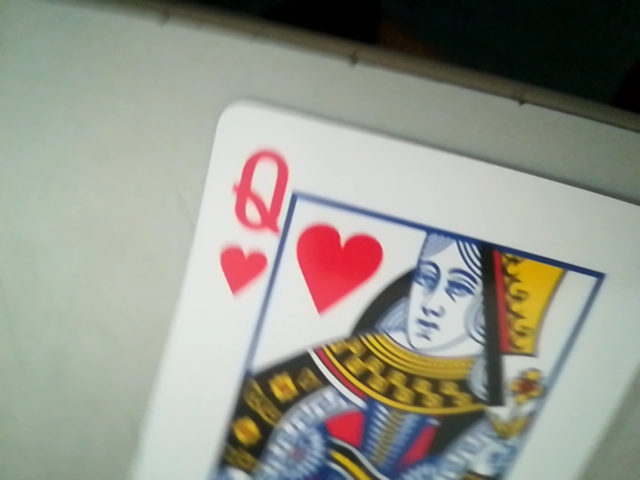hx q: (214, 143, 304, 299)
